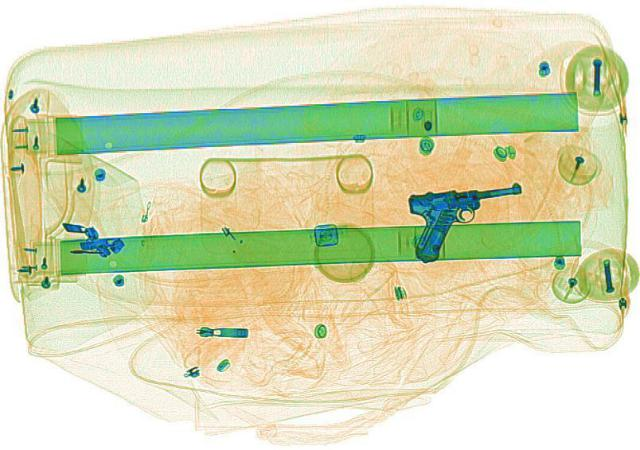Gun: (403, 182, 532, 260)
